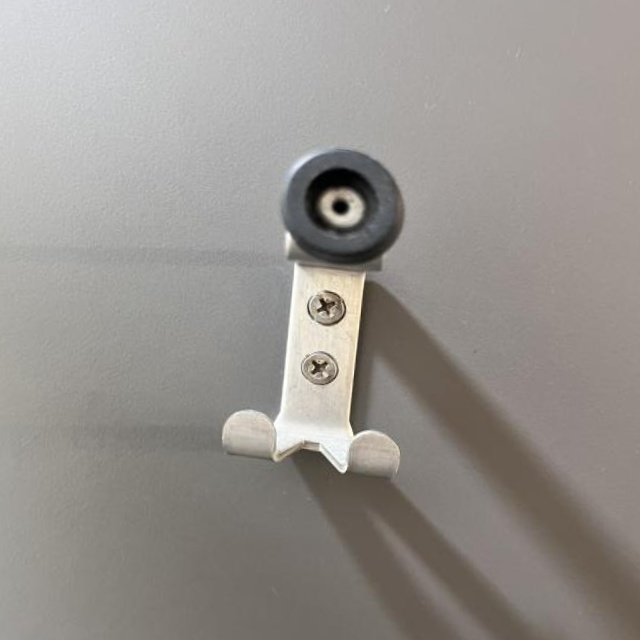phillips: (307, 288, 347, 328), (300, 350, 340, 387)
